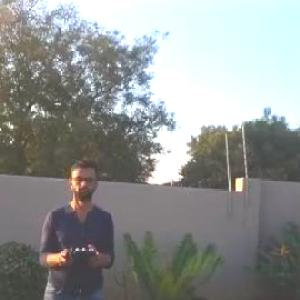follow: (29, 151, 119, 299)
